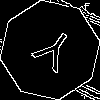Y: (25, 25, 79, 81)
